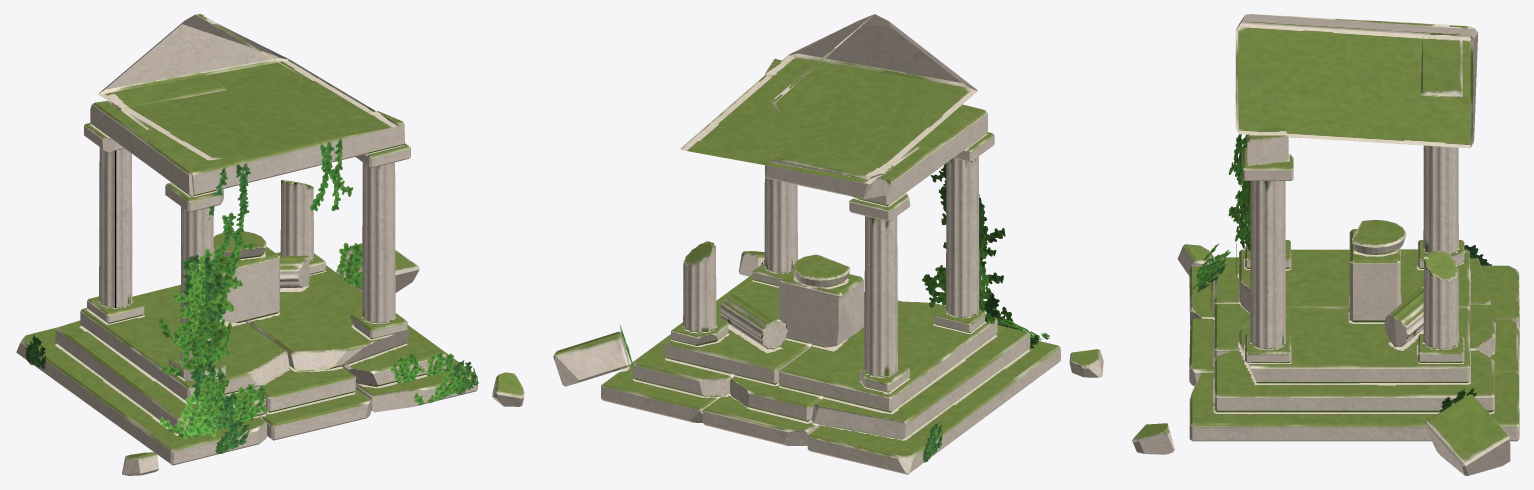
Rendered from schrein.glb.
3 views of the same model, side by side, from view 1: azimuth 30°, elevation 25°; view 2: azimuth 150°, elevation 25°; view 3: azimuth 270°, elevation 25° (orthographic). The views are drawn at different scales.
Visible parts, largest first — view 1: schrein; view 2: schrein; view 3: schrein.
Part boxes in pixels (box(x1,y1,x2,y2)): schrein: box(16, 14, 524, 475); schrein: box(553, 14, 1103, 474); schrein: box(1132, 14, 1519, 475).
Size of the model in its own units: 6.28 by 4.71 by 4.71.
2 materials, 2 textured.
